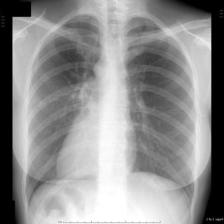tuberculosis: (20, 5, 201, 224)
